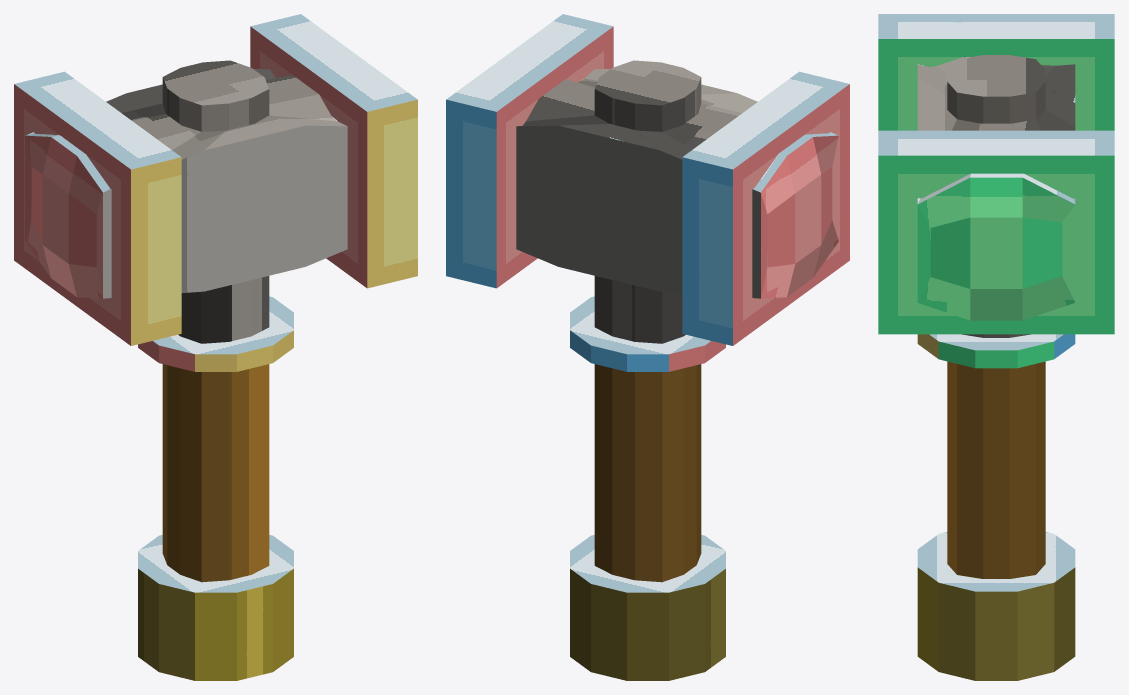
Rendered from hammer_lv2.gltf.
The picture shows the model from 3 angles, left to right: view 1: azimuth 30°, elevation 25°; view 2: azimuth 150°, elevation 25°; view 3: azimuth 270°, elevation 25°; orthographic projection.
Parts seen in each view (by area): view 1: Side, Hammer, Body, cylinder (×2); view 2: Side, Hammer, Body, cylinder (×2); view 3: Side, Body, Hammer, cylinder (×2).
Part boxes in pixels (<box>): Side: <box>14,14,417,345</box>; Hammer: <box>25,69,347,298</box>; Body: <box>162,60,269,582</box>; cylinder (×2): <box>138,296,293,680</box>; Side: <box>446,14,849,345</box>; Hammer: <box>516,69,838,298</box>; Body: <box>594,60,701,582</box>; cylinder (×2): <box>570,296,725,680</box>; Side: <box>878,14,1114,334</box>; Body: <box>947,55,1045,578</box>; Hammer: <box>917,57,1075,320</box>; cylinder (×2): <box>917,334,1075,680</box>.
Bounding box in the file's own units: 0.5938 × 1 × 0.375.
1 material, 1 textured.
